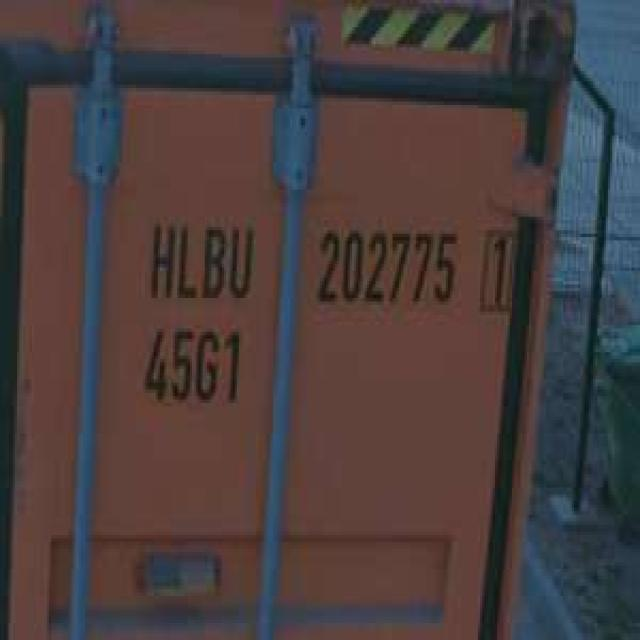dv: (475, 226, 520, 318)
owner: (144, 217, 258, 306)
serial: (310, 217, 462, 313)
size: (137, 323, 244, 409)
